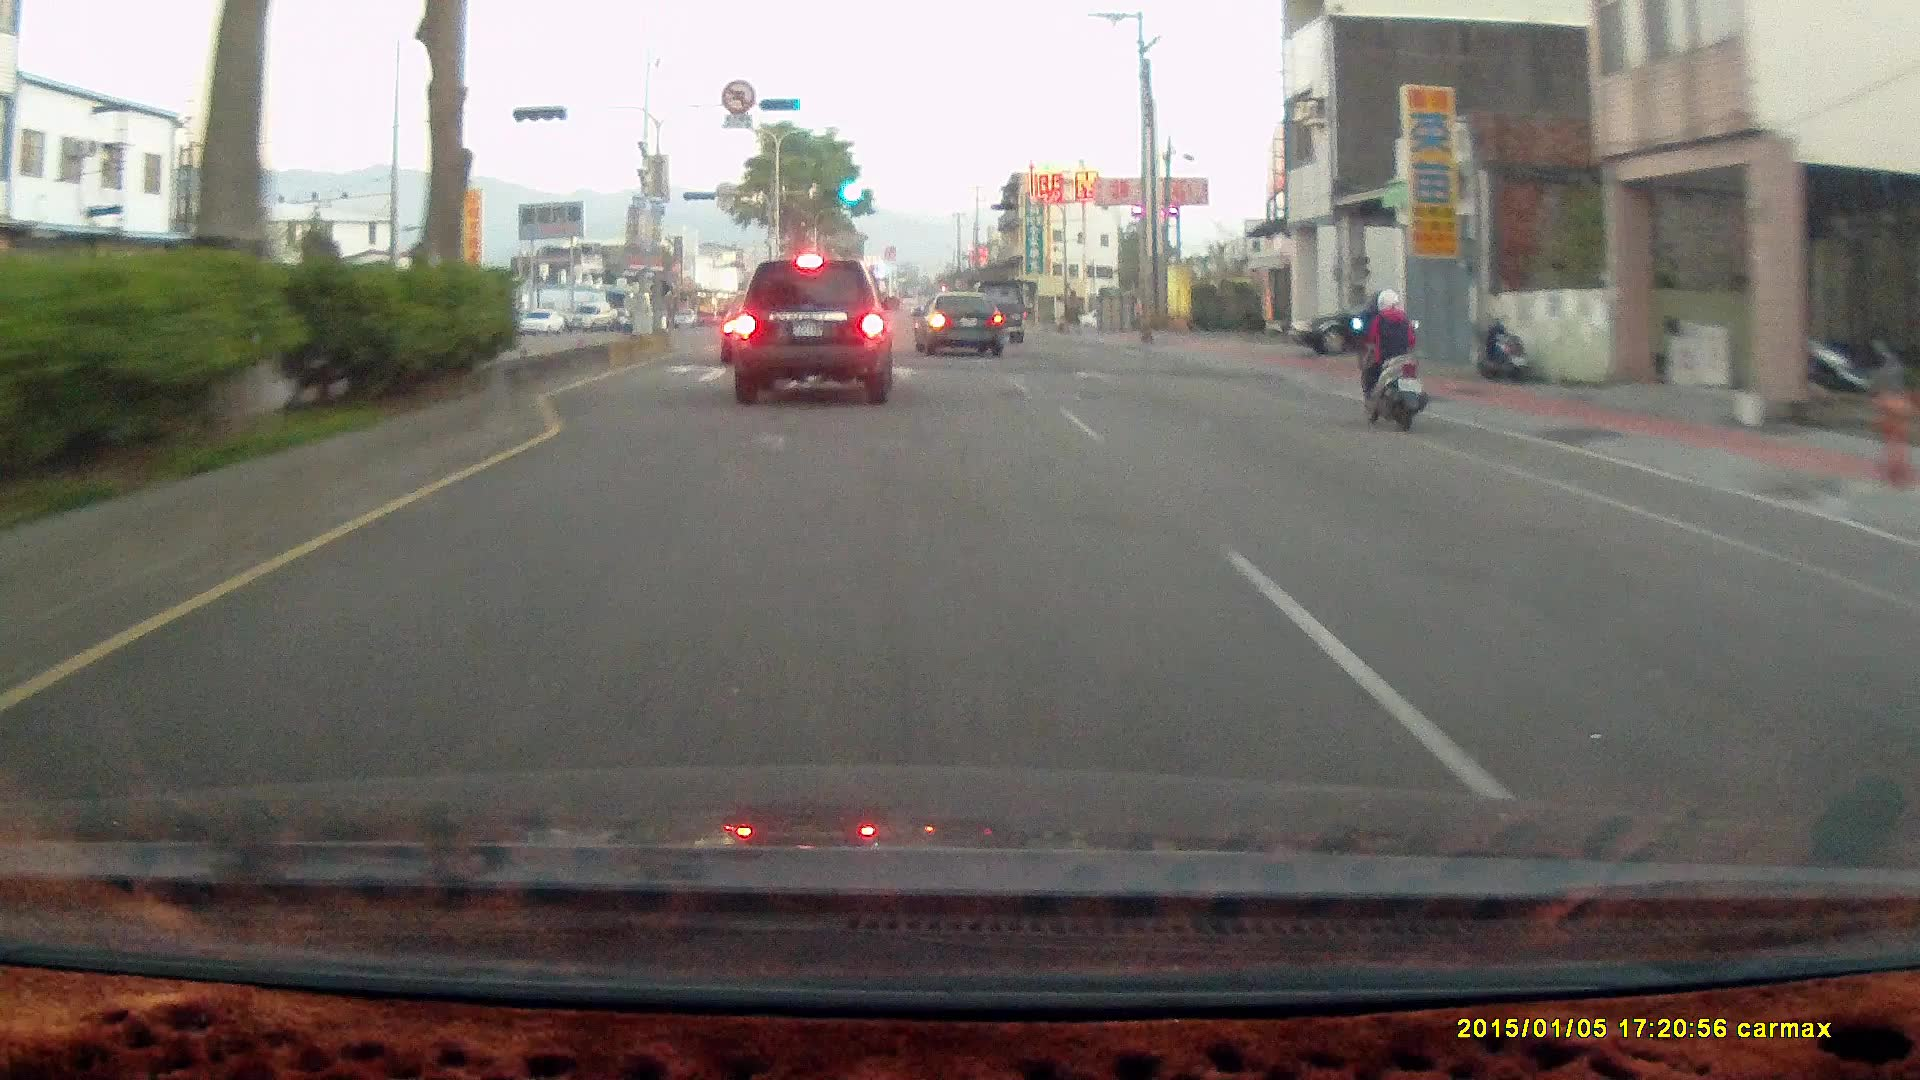rider: (1341, 277, 1441, 442), (1352, 288, 1429, 433)
vehicle: (725, 261, 892, 415), (730, 261, 897, 406), (1290, 283, 1482, 355), (1295, 290, 1406, 360), (914, 292, 1009, 358), (914, 297, 1003, 362), (970, 280, 1030, 347), (966, 278, 1027, 343), (564, 303, 612, 333), (517, 309, 564, 336)
